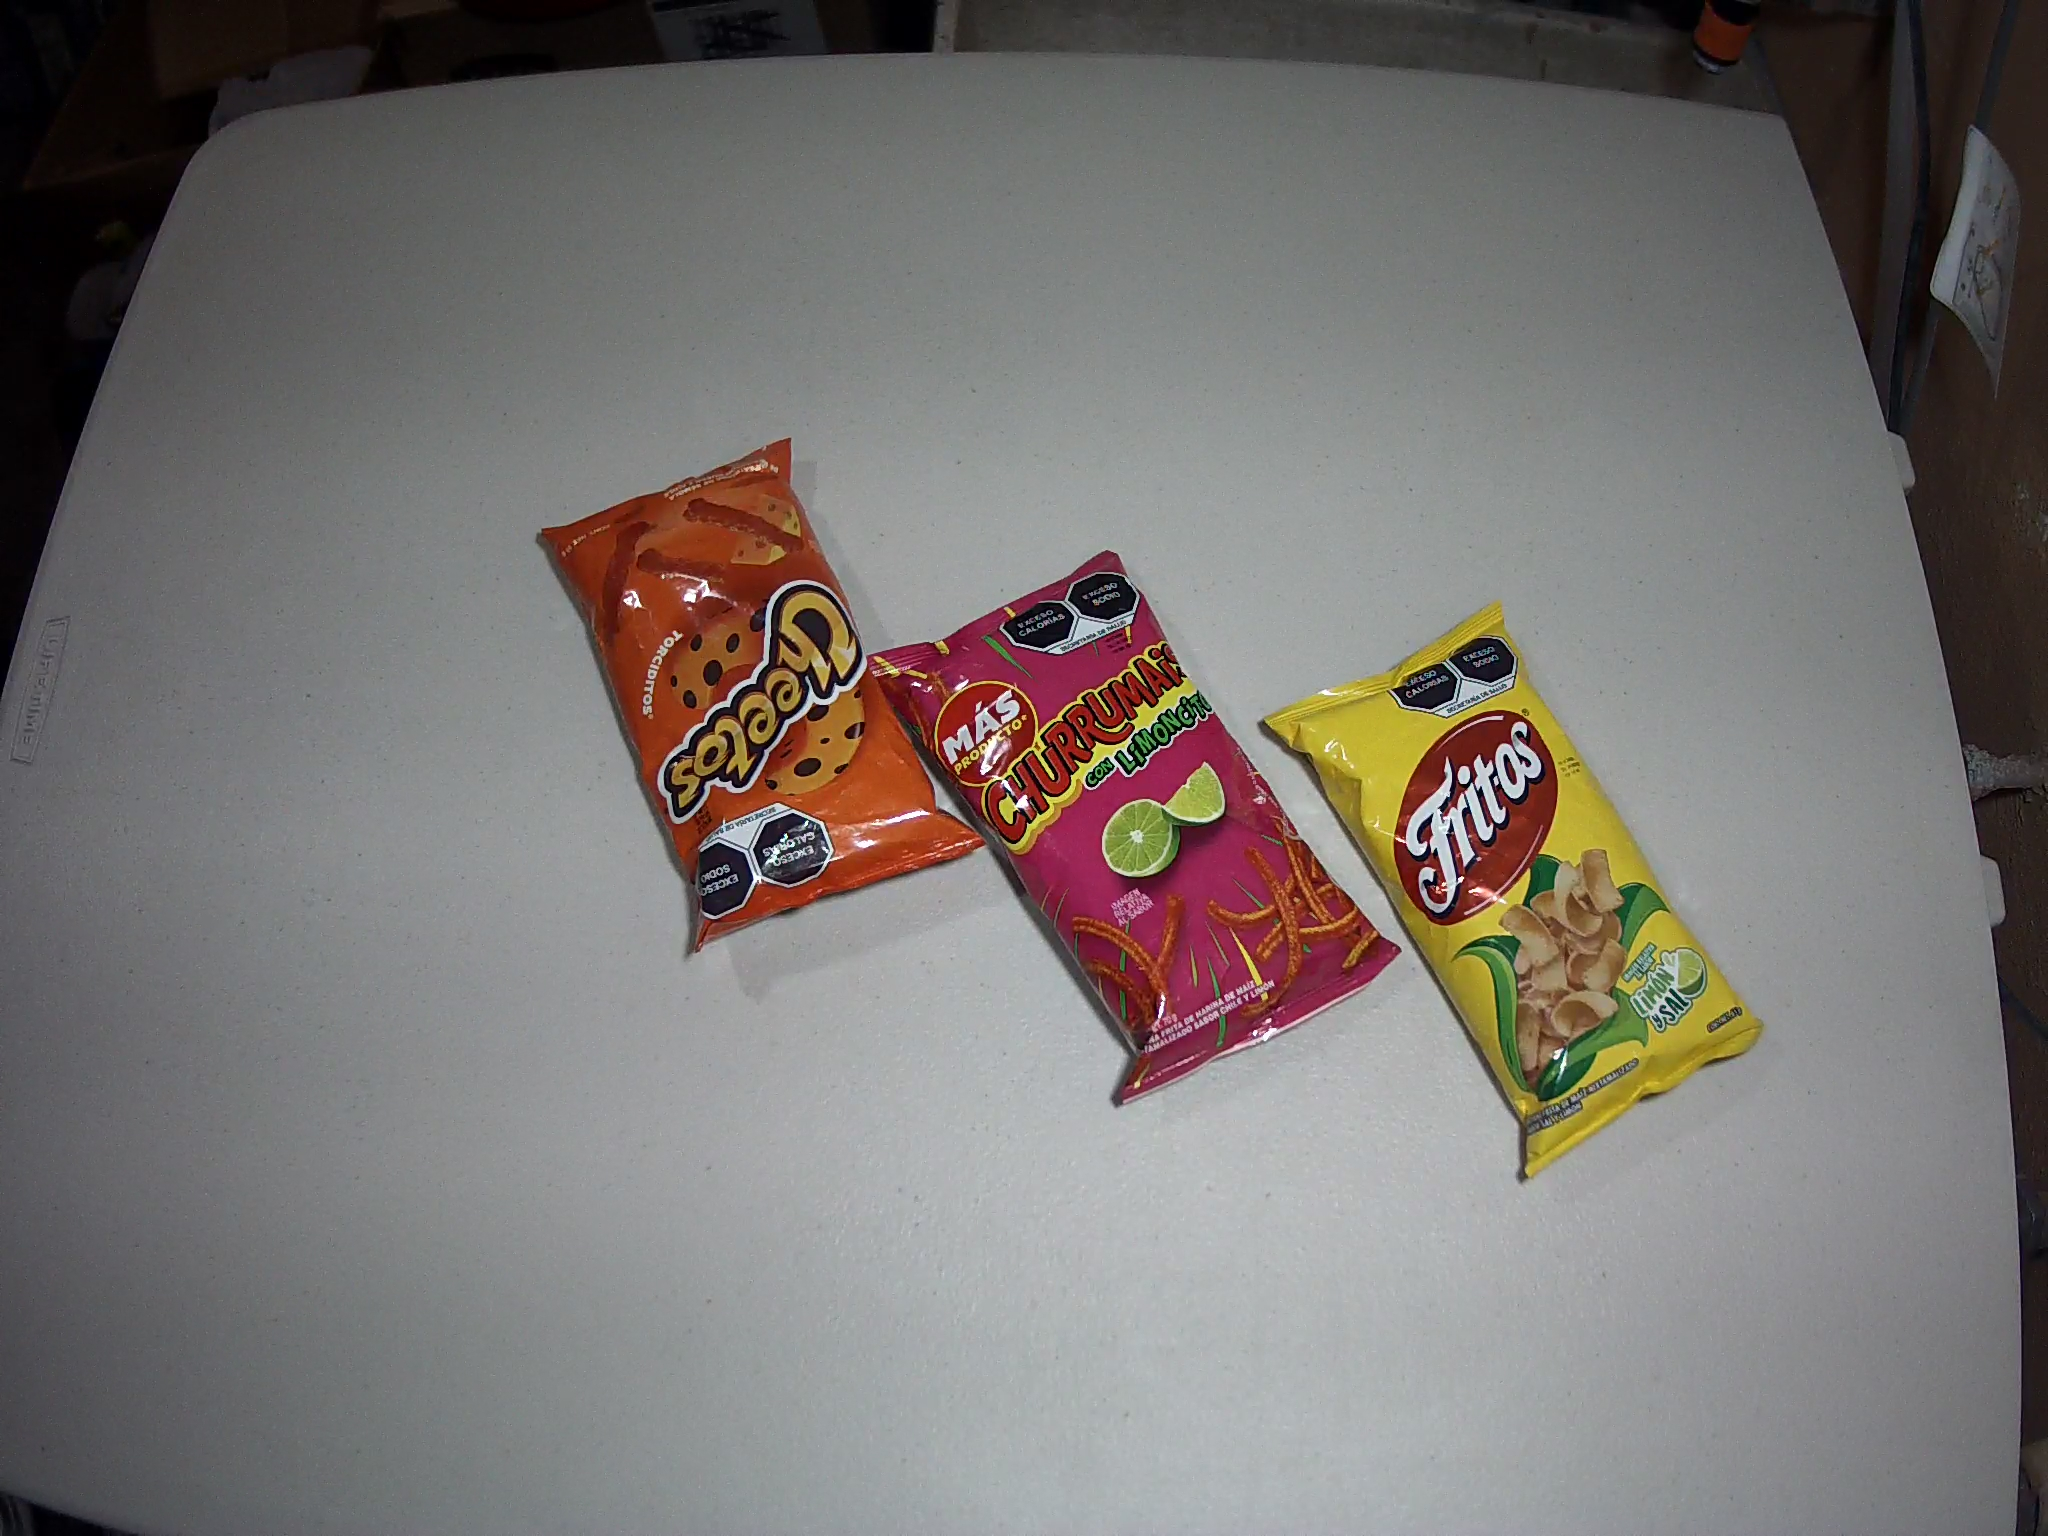CheetosTorciditos_55_F: (539, 437, 989, 955)
Churrumais_70_F: (863, 552, 1401, 1104)
FritosSalLimon_65_F: (1263, 600, 1763, 1178)
